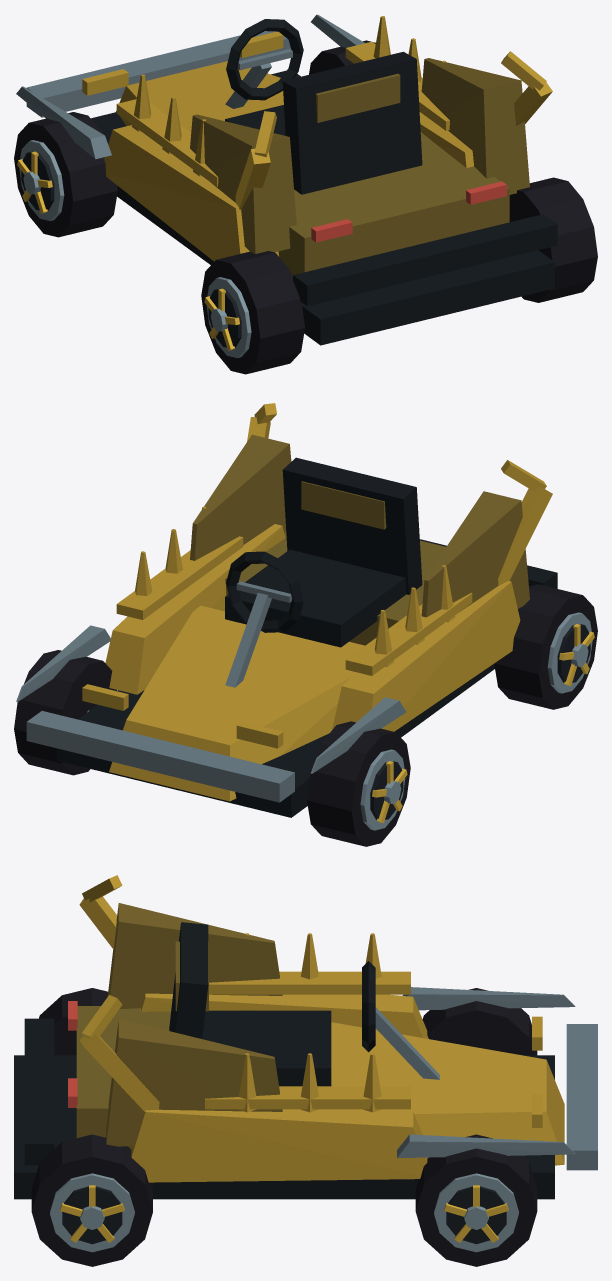
File: kart.glb
The picture shows the model from 3 angles, top to bottom: view 1: azimuth 30°, elevation 25°; view 2: azimuth 150°, elevation 25°; view 3: azimuth 270°, elevation 25°; orthographic projection. The views are drawn at different scales.
Visible parts, largest first — view 1: chassis, wheel-rear-left, wheel-front-left, wheel-rear-right, wheel-front-right; view 2: chassis, wheel-front-left, wheel-rear-left, wheel-front-right; view 3: chassis, wheel-rear-right, wheel-front-right, wheel-front-left, wheel-rear-left.
Boxes of the visible parts, left/top/right/bottom form: chassis: left=16, top=14, right=557, bottom=345; wheel-rear-left: left=201, top=251, right=304, bottom=374; wheel-front-left: left=14, top=112, right=117, bottom=237; wheel-rear-right: left=509, top=177, right=597, bottom=302; wheel-front-right: left=309, top=40, right=375, bottom=74; chassis: left=16, top=403, right=557, bottom=817; wheel-front-left: left=307, top=721, right=410, bottom=846; wheel-rear-left: left=494, top=584, right=597, bottom=709; wheel-front-right: left=14, top=650, right=116, bottom=775; chassis: left=14, top=875, right=597, bottom=1199; wheel-rear-right: left=31, top=1134, right=152, bottom=1266; wheel-front-right: left=415, top=1134, right=537, bottom=1266; wheel-front-left: left=422, top=988, right=537, bottom=1055; wheel-rear-left: left=39, top=988, right=107, bottom=1055.
Bounding box in the file's own units: 2.21 × 1.38 × 2.98.
